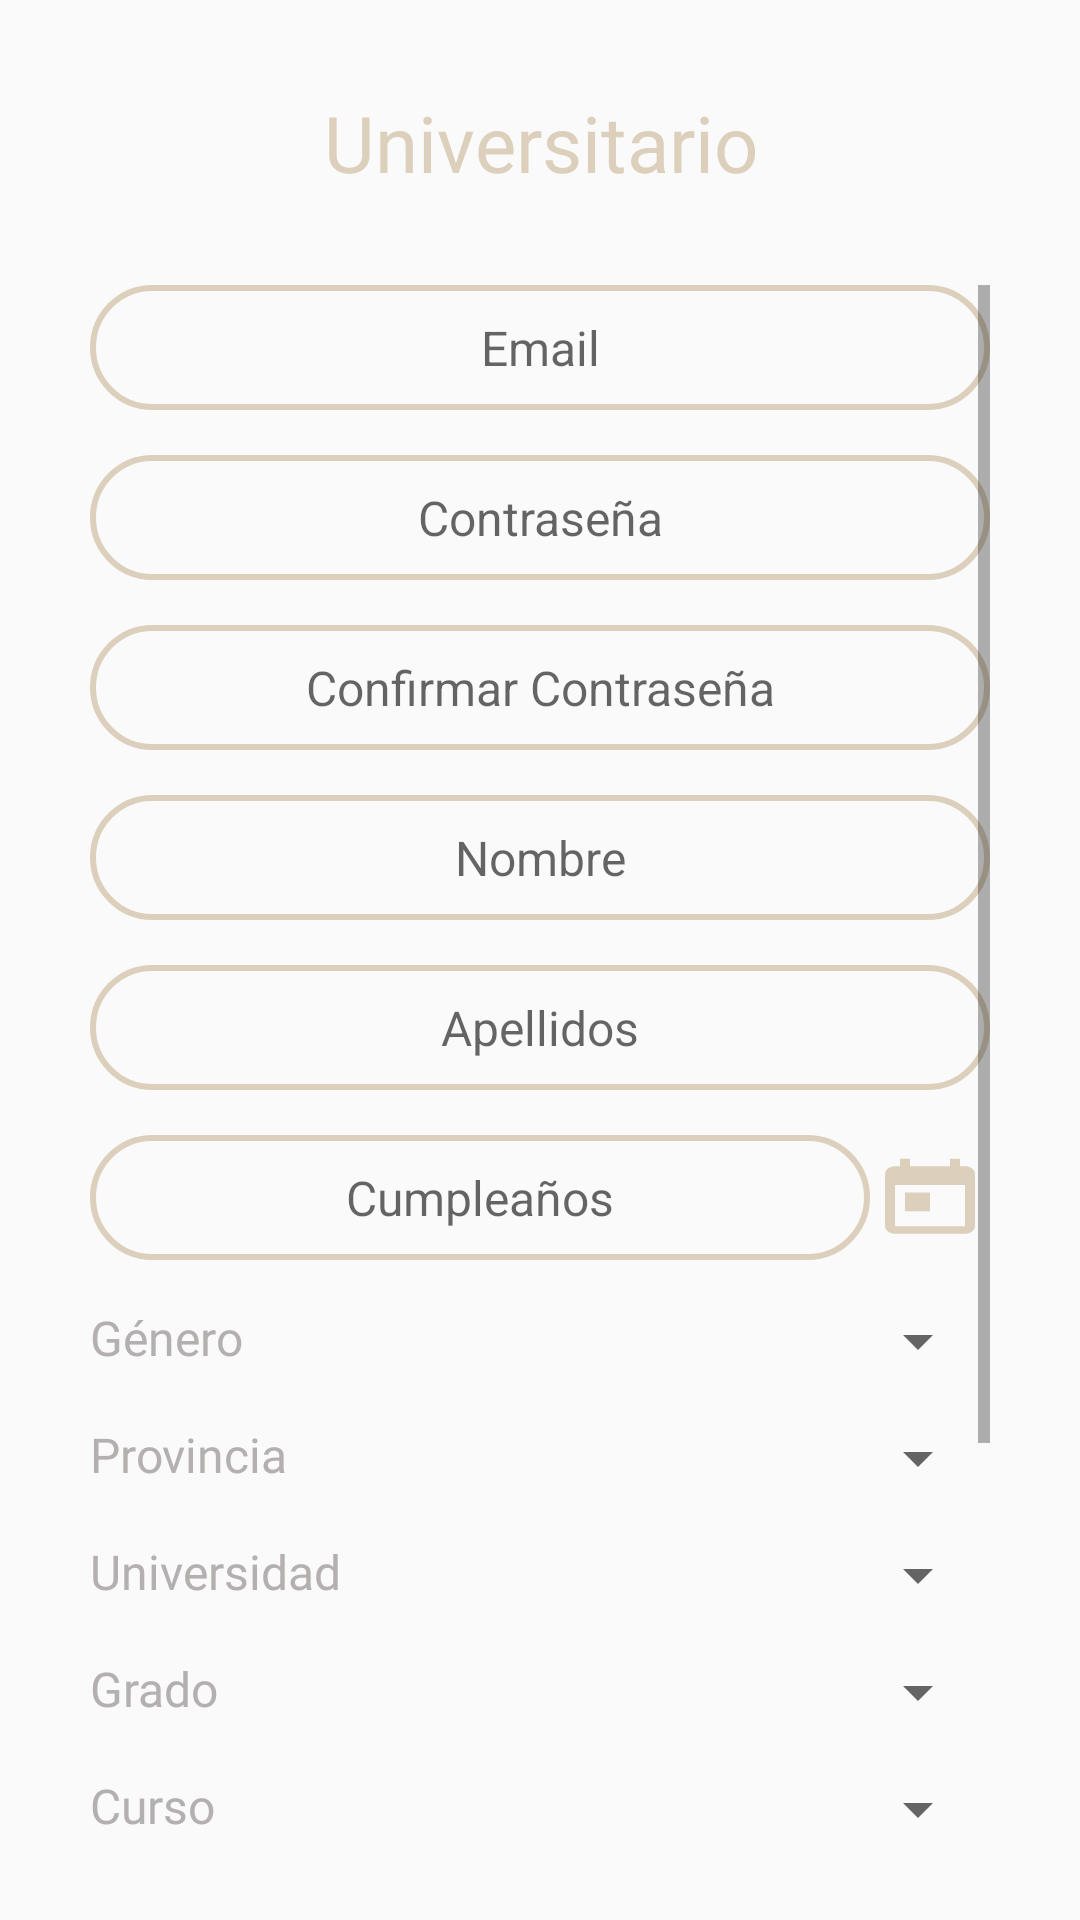

Screen size 1080px x 1920px. Icon name, then its center in pixels as (x,y):
calendar: (930,1196)
